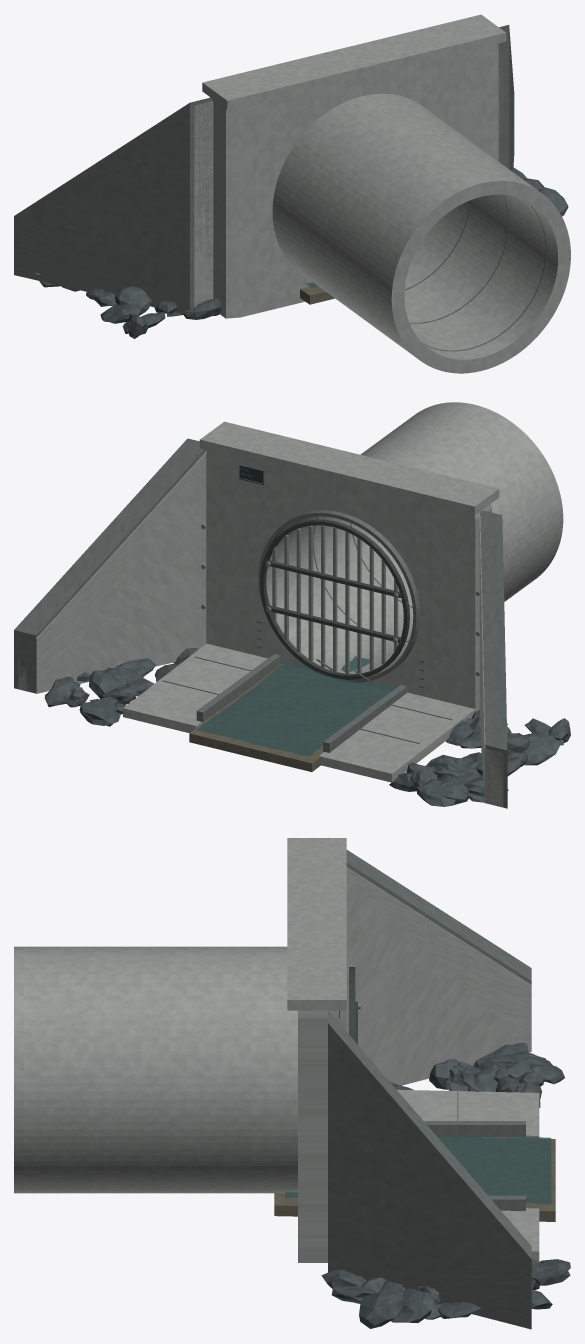
3 views of the same model, one above another, from view 1: azimuth 30°, elevation 25°; view 2: azimuth 150°, elevation 25°; view 3: azimuth 270°, elevation 25° (orthographic). The views are drawn at different scales.
Visible parts, largest first — view 1: VIS_HOLLOW_CONCRETE_BARREL, VIS_WING_CAP_L, VIS_MAIN_HEADWALL_APERTURE, VIS_CROWN_COPING, VIS_CONCRETE_WING_L, VIS_LEFT_SCOUR_RIPRAP, VIS_WING_CAP_R, VIS_RIGHT_SCOUR_RIPRAP; view 2: VIS_MAIN_HEADWALL_APERTURE, VIS_HOLLOW_CONCRETE_BARREL, VIS_CONCRETE_WING_R, VIS_RIVERBED, VIS_RUNOFF_SURFACE, VIS_CROWN_COPING, VIS_WING_CAP_R, VIS_LEFT_APRON, VIS_LEFT_SCOUR_RIPRAP, VIS_WING_CAP_L, VIS_RIGHT_APRON, VIS_RIGHT_SCOUR_RIPRAP (+14 smaller); view 3: VIS_HOLLOW_CONCRETE_BARREL, VIS_WING_CAP_R, VIS_CONCRETE_WING_L, VIS_CROWN_COPING, VIS_MAIN_HEADWALL_APERTURE, VIS_RIVERBED, VIS_RIGHT_SCOUR_RIPRAP, VIS_RUNOFF_SURFACE, VIS_LEFT_SCOUR_RIPRAP, VIS_LEFT_APRON, VIS_WING_CAP_L, VIS_EDGE_KERB_-1 (+1 smaller).
Boxes of the visible parts, x1,y1,x2,y2 form: VIS_HOLLOW_CONCRETE_BARREL: (272,93,570,373); VIS_WING_CAP_L: (14,97,212,314); VIS_MAIN_HEADWALL_APERTURE: (210,43,498,318); VIS_CROWN_COPING: (202,14,506,109); VIS_CONCRETE_WING_L: (194,101,213,306); VIS_LEFT_SCOUR_RIPRAP: (34,272,221,338); VIS_WING_CAP_R: (498,25,514,171); VIS_RIGHT_SCOUR_RIPRAP: (512,167,568,216); VIS_MAIN_HEADWALL_APERTURE: (206,450,491,710); VIS_HOLLOW_CONCRETE_BARREL: (281,402,563,665); VIS_CONCRETE_WING_R: (18,451,206,693); VIS_RIVERBED: (189,664,391,771); VIS_RUNOFF_SURFACE: (197,656,395,756); VIS_CROWN_COPING: (199,421,499,515); VIS_WING_CAP_R: (14,438,206,693); VIS_LEFT_APRON: (319,692,479,782); VIS_LEFT_SCOUR_RIPRAP: (389,709,570,806); VIS_WING_CAP_L: (480,510,507,808); VIS_RIGHT_APRON: (123,643,267,733); VIS_RIGHT_SCOUR_RIPRAP: (44,648,198,726); VIS_HOLLOW_CONCRETE_BARREL: (14,946,297,1193); VIS_WING_CAP_R: (328,1010,531,1329); VIS_CONCRETE_WING_L: (346,867,531,1085); VIS_CROWN_COPING: (287,838,346,1010); VIS_MAIN_HEADWALL_APERTURE: (298,1010,337,1262); VIS_RIVERBED: (274,1137,555,1221); VIS_RIGHT_SCOUR_RIPRAP: (321,1258,570,1328); VIS_RUNOFF_SURFACE: (285,1136,551,1203); VIS_LEFT_SCOUR_RIPRAP: (389,1042,564,1107); VIS_LEFT_APRON: (397,1089,539,1137); VIS_WING_CAP_L: (328,837,531,984); VIS_EDGE_KERB_-1: (424,1121,525,1136).
Size of the model in its own units: 10.55 by 4.74 by 8.53.
Materials: 8 (8 with a texture image).
